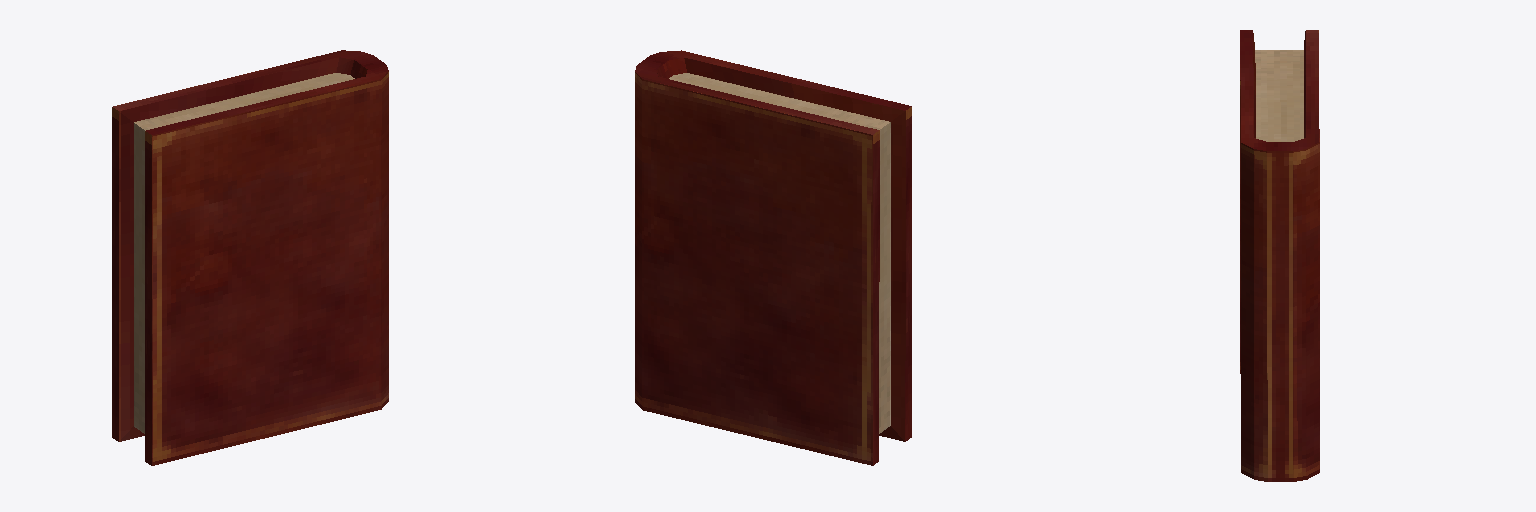
The picture shows the model from 3 angles: view 1: azimuth 30°, elevation 25°; view 2: azimuth 150°, elevation 25°; view 3: azimuth 270°, elevation 25°; orthographic projection.
Visible parts, largest first — view 1: Cube.005; view 2: Cube.005; view 3: Cube.005.
Boxes of the visible parts, x1,y1,x2,y2 form: Cube.005: [112, 50, 388, 465]; Cube.005: [635, 50, 911, 465]; Cube.005: [1240, 30, 1319, 481].
Size of the model in its own units: 0.8929 by 1.14 by 0.2481.
Materials: 1 (1 with a texture image).